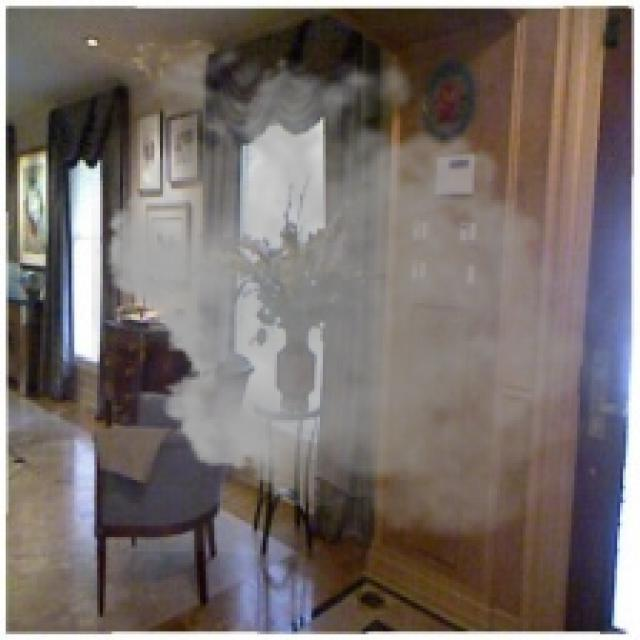Smoke: (91, 29, 614, 552)
